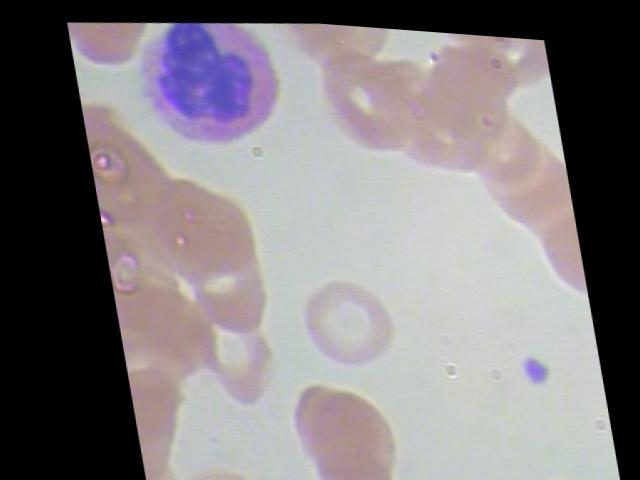Platelets: (507, 342, 545, 385)
Red Blood Cells: (138, 161, 265, 290), (270, 366, 401, 479), (306, 35, 422, 162), (281, 260, 397, 375), (177, 308, 271, 409), (66, 14, 170, 78), (149, 447, 256, 479), (491, 454, 596, 479)
White Blood Cells: (119, 10, 291, 157)
